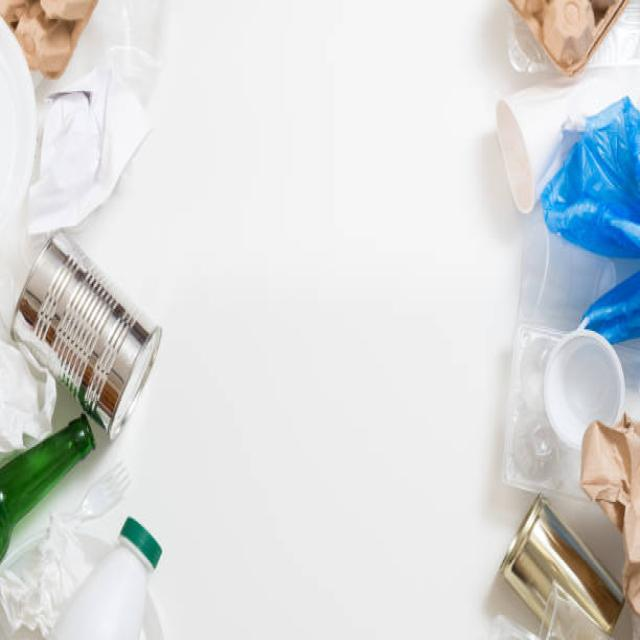cardboard: (7, 1, 98, 90)
metal: (17, 245, 152, 438), (490, 497, 624, 631)
plastic: (495, 67, 640, 414), (16, 502, 181, 637)
